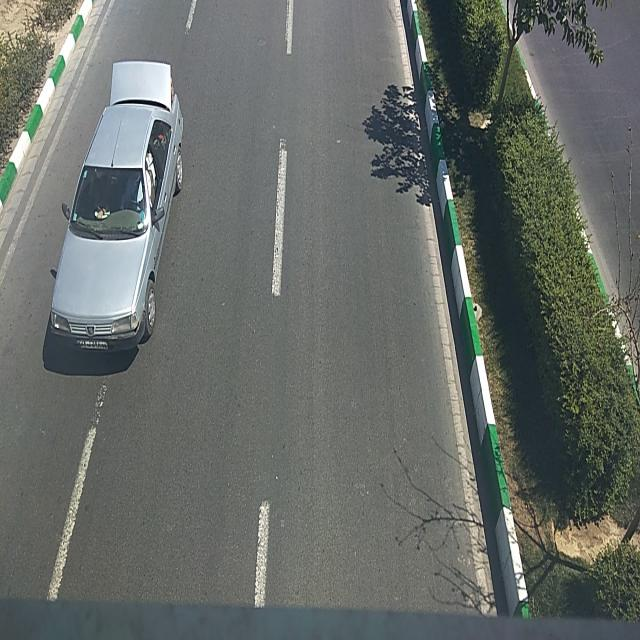car: (49, 67, 181, 361)
